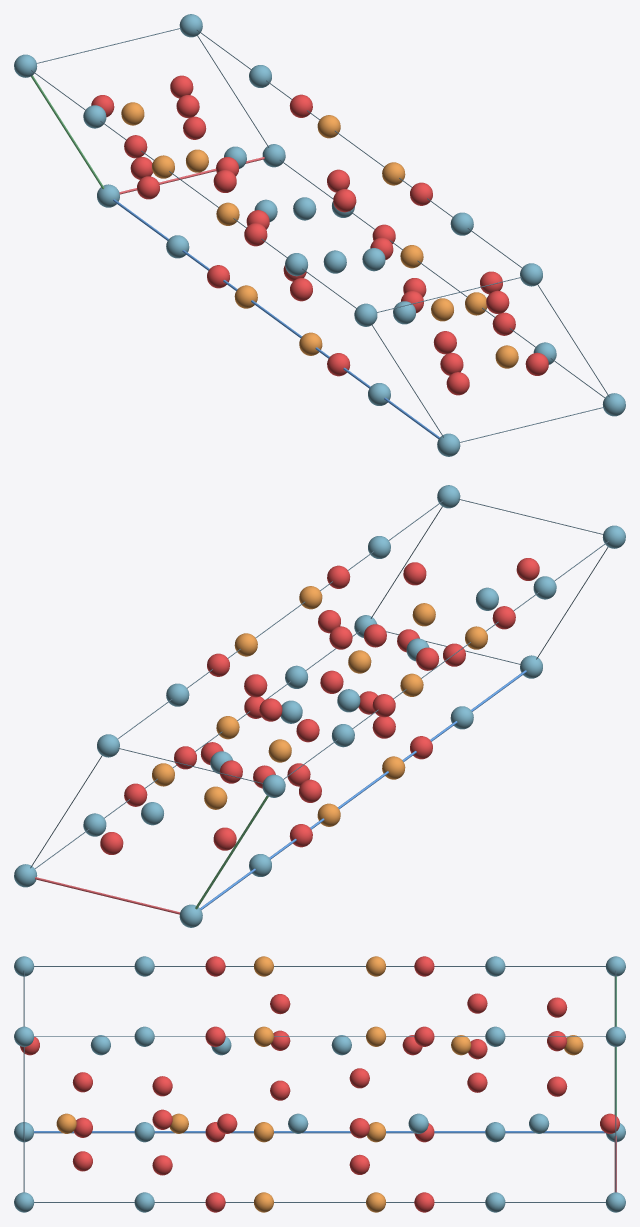
Rendered from chat-tuite.glb.
3 views of the same model, one above another, from view 1: azimuth 30°, elevation 25°; view 2: azimuth 150°, elevation 25°; view 3: azimuth 270°, elevation 25° (orthographic). The views are drawn at different scales.
Parts seen in each view (by area): view 1: Ô mạng và các trục a, b, c; view 2: Ô mạng và các trục a, b, c; view 3: Ô mạng và các trục a, b, c.
Part boxes in pixels (x1,y1,x2,y2): Ô mạng và các trục a, b, c: (31,28,609,442); Ô mạng và các trục a, b, c: (30,499,608,914); Ô mạng và các trục a, b, c: (23,966,616,1202).
Size of the model in its own units: 8.51 by 5.19 by 19.31.
